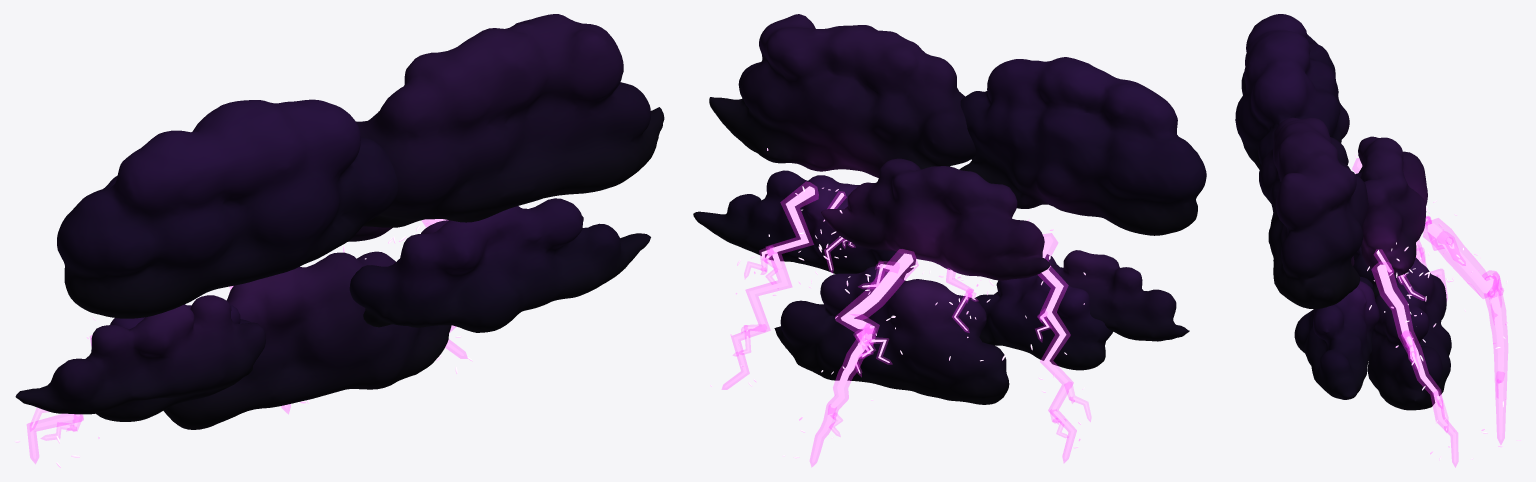
The model's file is storm_void.glb.
The picture shows the model from 3 angles, left to right: view 1: azimuth 30°, elevation 25°; view 2: azimuth 150°, elevation 25°; view 3: azimuth 270°, elevation 25°; orthographic projection. The views are drawn at different scales.
Parts seen in each view (by area): view 1: Clouds, Bolt_4; view 2: Clouds, Bolt_3, Bolt_1, Bolt_4, Bolt_5, Bolt_2; view 3: Clouds, Bolt_3, Bolt_1, Bolt_2, Bolt_4.
Part boxes in pixels (box(x1,y1,x2,y2)): Clouds: box(15, 14, 664, 429); Bolt_4: box(14, 317, 99, 467); Clouds: box(693, 14, 1206, 404); Bolt_3: box(782, 249, 918, 466); Bolt_1: box(710, 148, 838, 389); Bolt_4: box(1002, 219, 1091, 462); Bolt_5: box(922, 268, 993, 361); Bolt_2: box(795, 187, 855, 286); Clouds: box(1235, 14, 1451, 410); Bolt_3: box(1423, 218, 1520, 447); Bolt_1: box(1367, 242, 1473, 467); Bolt_2: box(1369, 246, 1436, 327); Bolt_4: box(1352, 153, 1448, 299).
Size of the model in its own units: 15.46 by 10.72 by 8.13.
